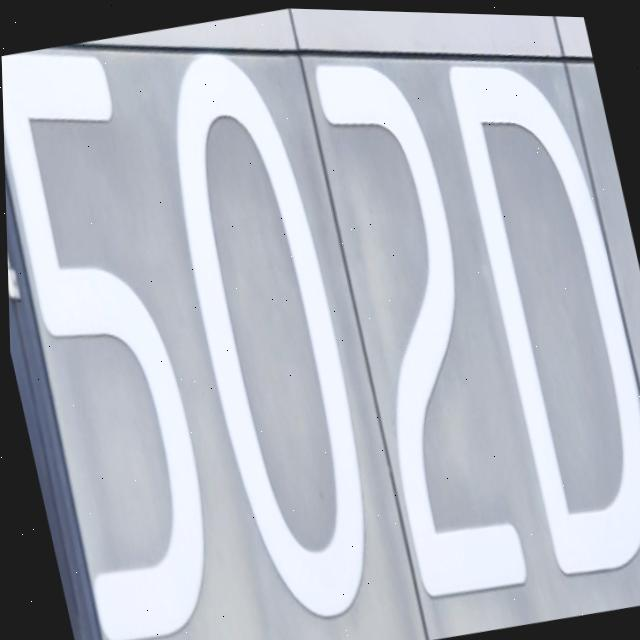character: (142, 33, 401, 639), (1, 36, 240, 640), (304, 41, 537, 614), (437, 28, 640, 592)
